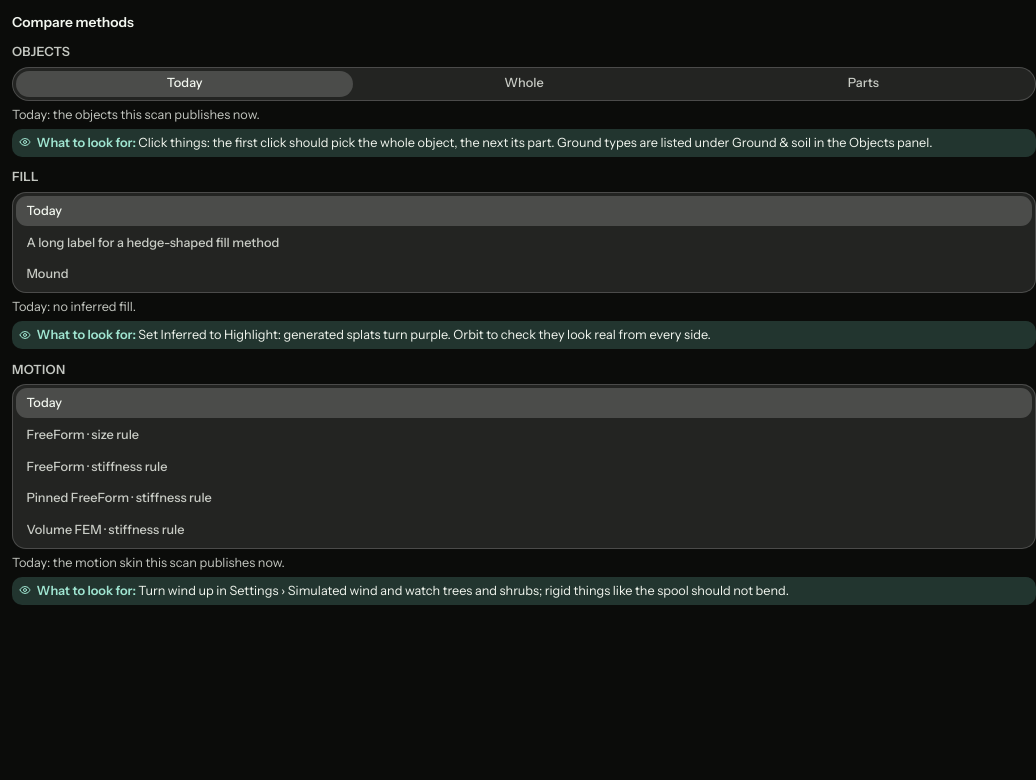
Test: Compare methods › says what to look for, per system, unless the method says its own
Expected: the text "Click things: the first click should pick the whole object, the next its part. Ground types are listed under Ground & so" is shown, [138,135,933,150]
Expected: the text "Set Inferred to Highlight: generated splats turn purple. Orbit to check they look real from every side." is shown, [138,328,711,342]
Click the radio button labelled "Pinned FreeForm · stiffness rule" at (119, 498), box [16,483,1032,513]
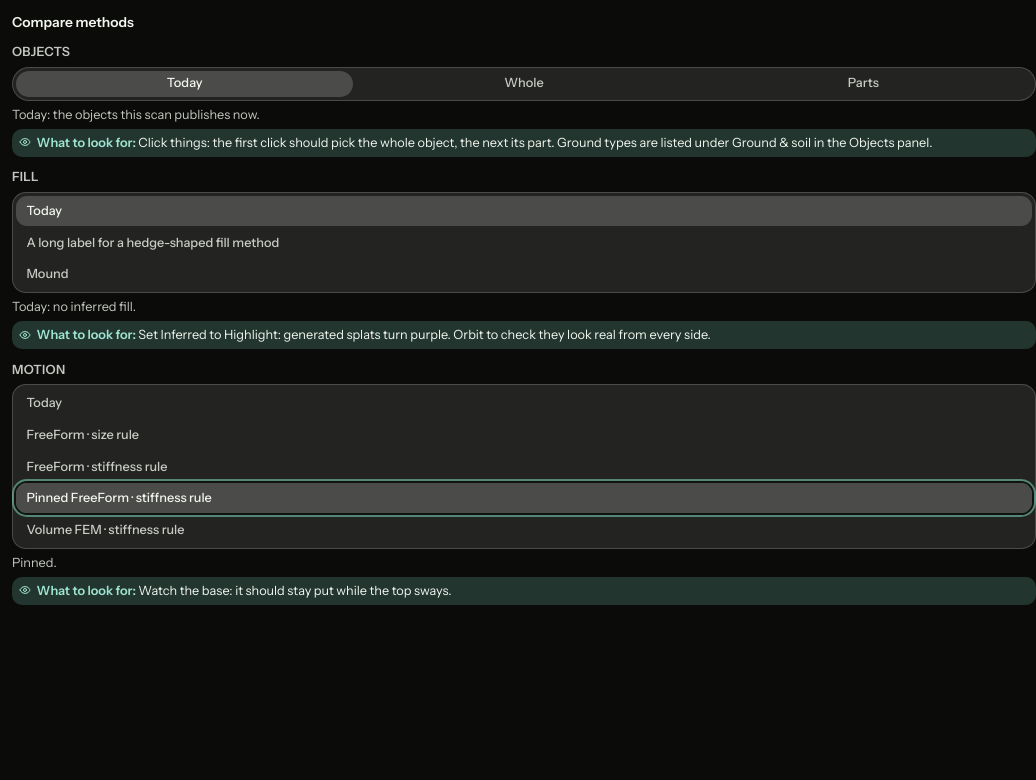
Expected: the text "Watch the base: it should stay put while the top sways." is shown, [138,583,452,598]
Expected: the text "Turn wind up in Settings › Simulated wind and watch trees and shrubs; rigid things like the spool should not bend." is gone
